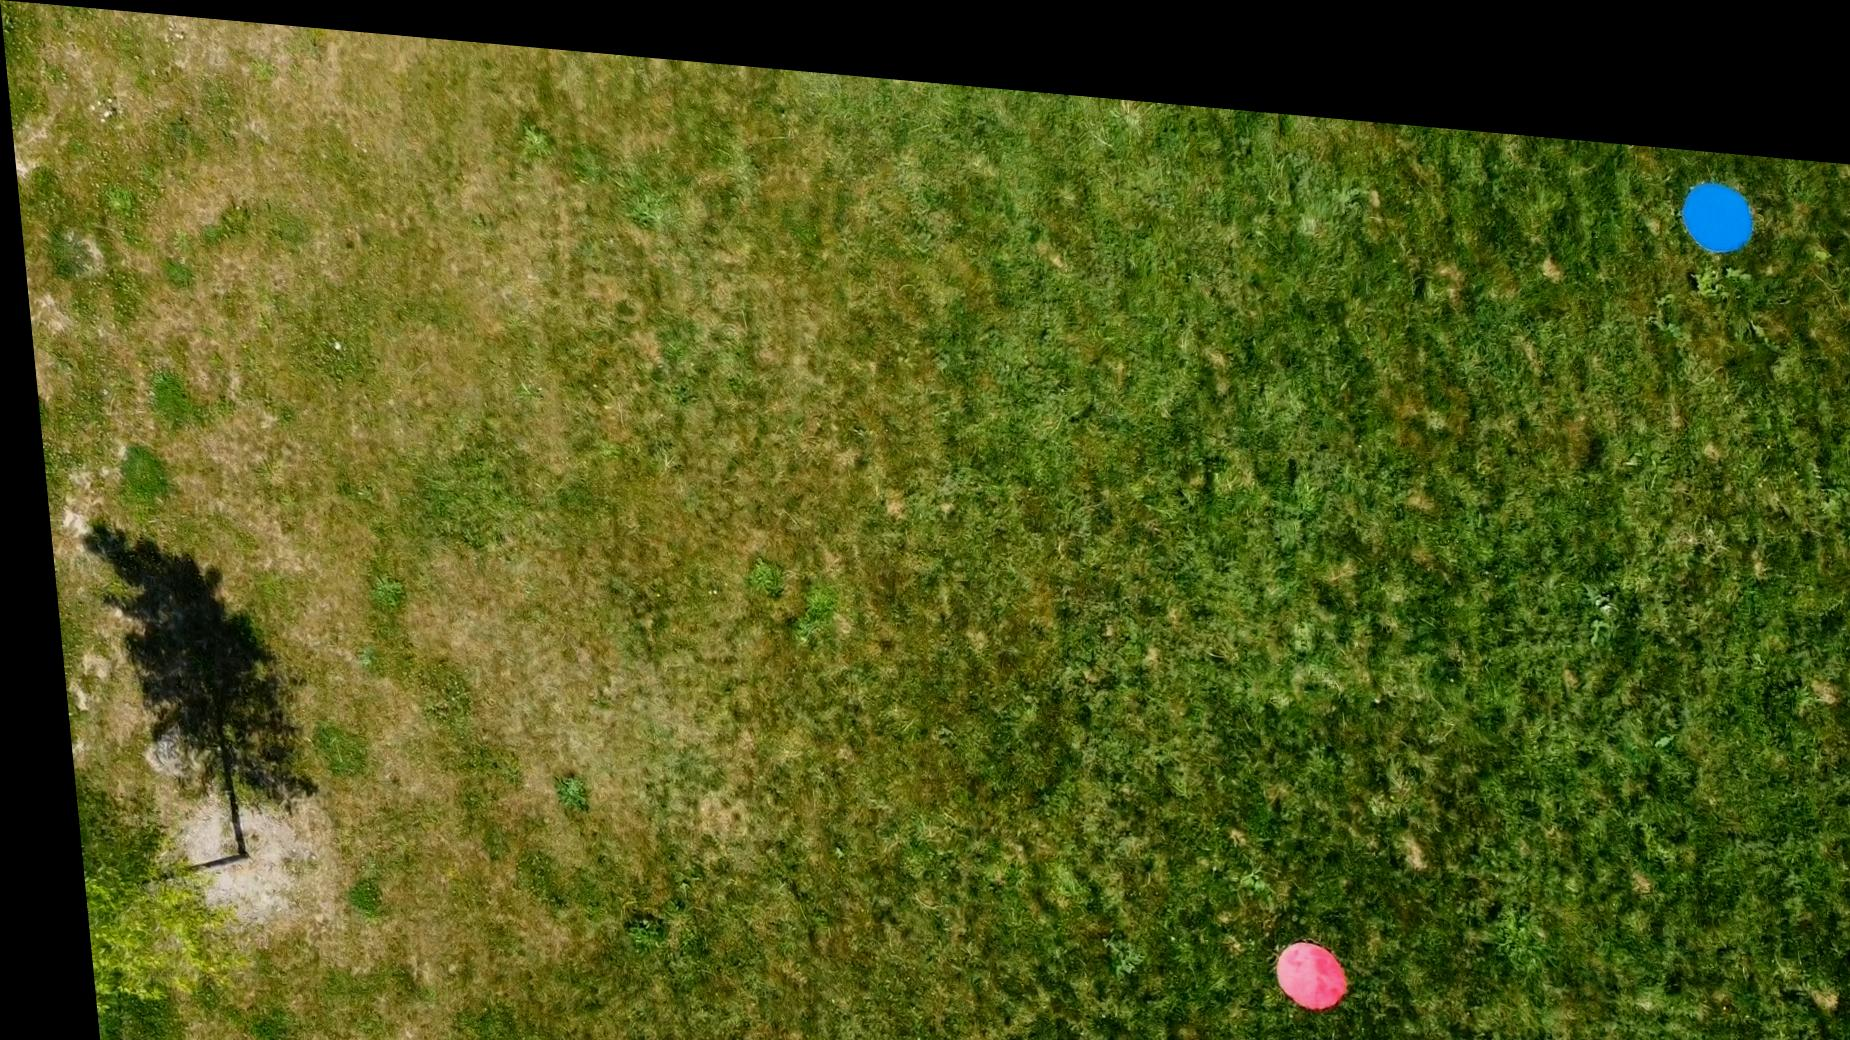Blue: (1676, 146, 1757, 226)
Red: (1254, 913, 1335, 993)
